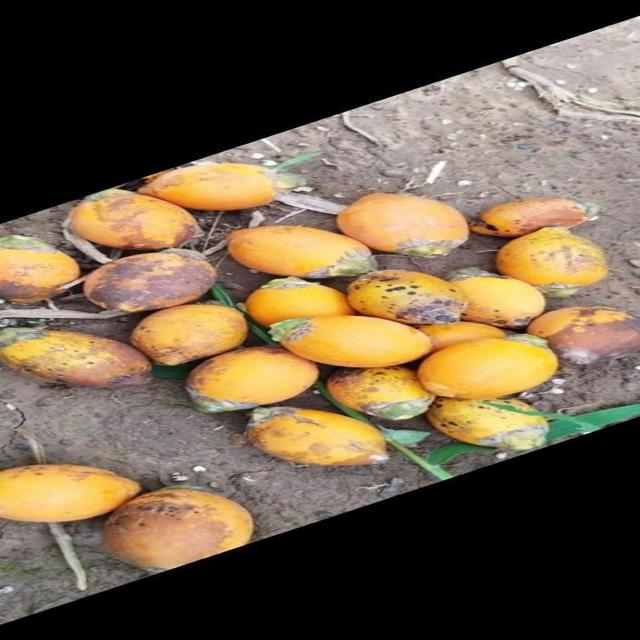good: (103, 490, 255, 573), (185, 348, 319, 414), (418, 338, 558, 401), (271, 316, 434, 370), (0, 332, 151, 390), (84, 250, 218, 315), (0, 465, 141, 524), (246, 410, 389, 468), (337, 194, 470, 256), (72, 192, 196, 252), (229, 227, 368, 278), (346, 272, 468, 328), (496, 228, 608, 288), (427, 397, 550, 450), (328, 367, 434, 424), (0, 236, 84, 306), (246, 278, 354, 330), (529, 308, 640, 358), (471, 198, 594, 240), (453, 276, 546, 330), (420, 324, 508, 356)
